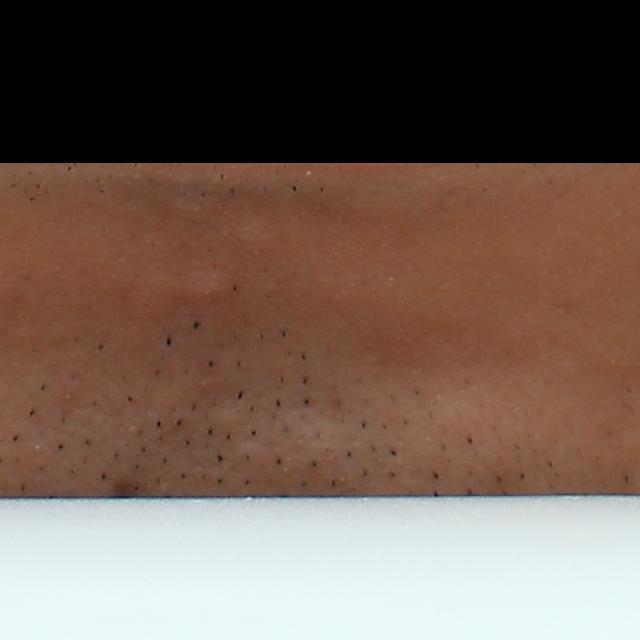hypertrophic_scar: (232, 210, 289, 250)
papule: (183, 272, 230, 309)
